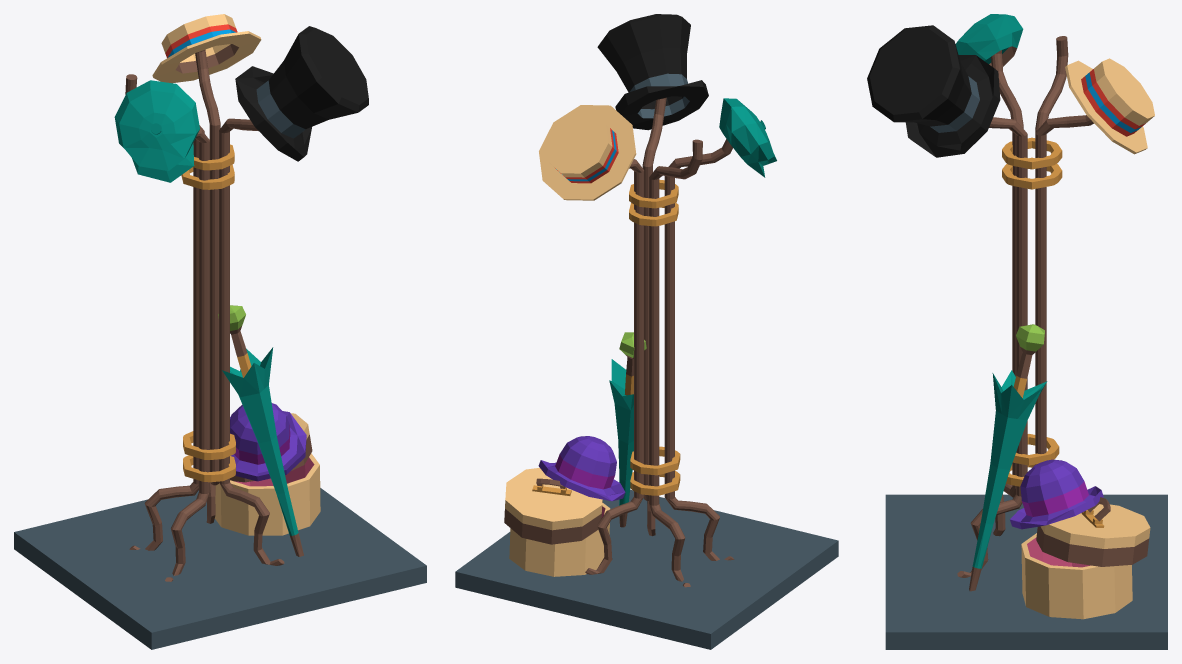
Rendered from rackSombreros.fbx.
The picture shows the model from 3 angles, left to right: view 1: azimuth 30°, elevation 25°; view 2: azimuth 150°, elevation 25°; view 3: azimuth 270°, elevation 25°; orthographic projection. The views are drawn at different scales.
Parts seen in each view (by area): view 1: group1945589695; view 2: group1945589695; view 3: group1945589695.
Part boxes in pixels (left/top/right/bottom): group1945589695: left=14, top=14, right=426, bottom=649; group1945589695: left=455, top=14, right=838, bottom=649; group1945589695: left=867, top=14, right=1167, bottom=649.
Size of the model in its own units: 64.88 by 126 by 59.88.
